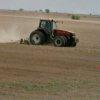Tractor: (28, 12, 79, 53)
